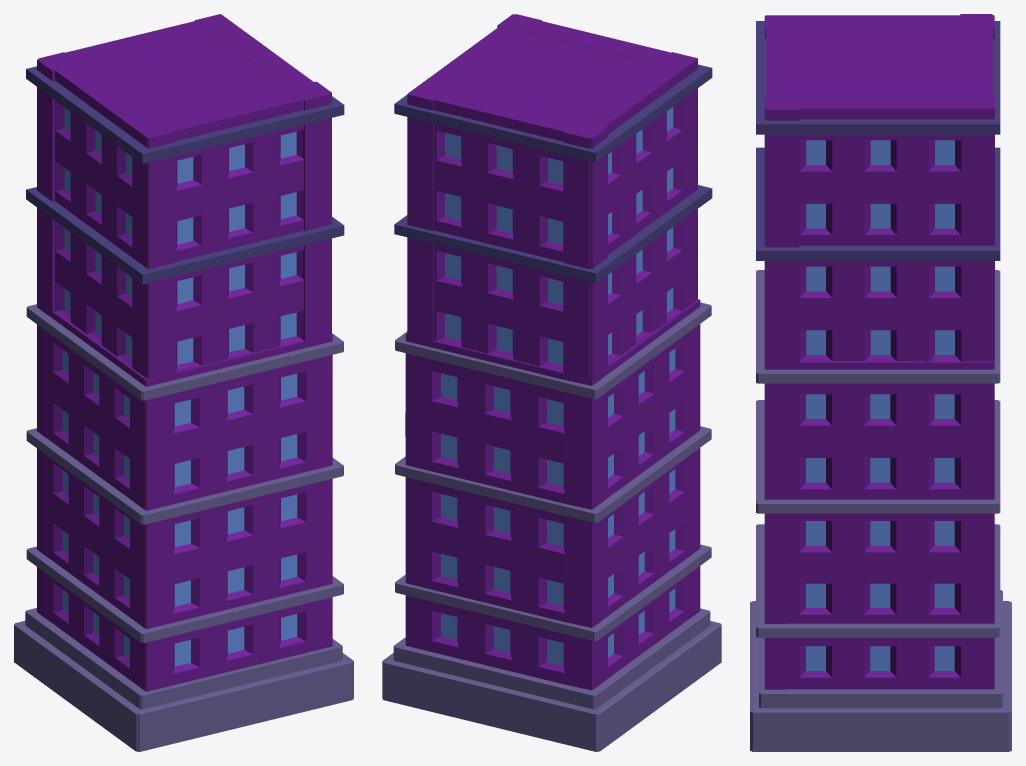
Rendered from fbhome_4.fbx.
The picture shows the model from 3 angles, left to right: view 1: azimuth 30°, elevation 25°; view 2: azimuth 150°, elevation 25°; view 3: azimuth 270°, elevation 25°; orthographic projection. The views are drawn at different scales.
Visible parts, largest first — view 1: Cube.035; view 2: Cube.035; view 3: Cube.035.
Part boxes in pixels (x1,y1,x2,y2): Cube.035: [14, 14, 353, 751]; Cube.035: [382, 14, 721, 751]; Cube.035: [750, 14, 1011, 751].
Bounding box in the file's own units: 380 × 1008 × 377.
